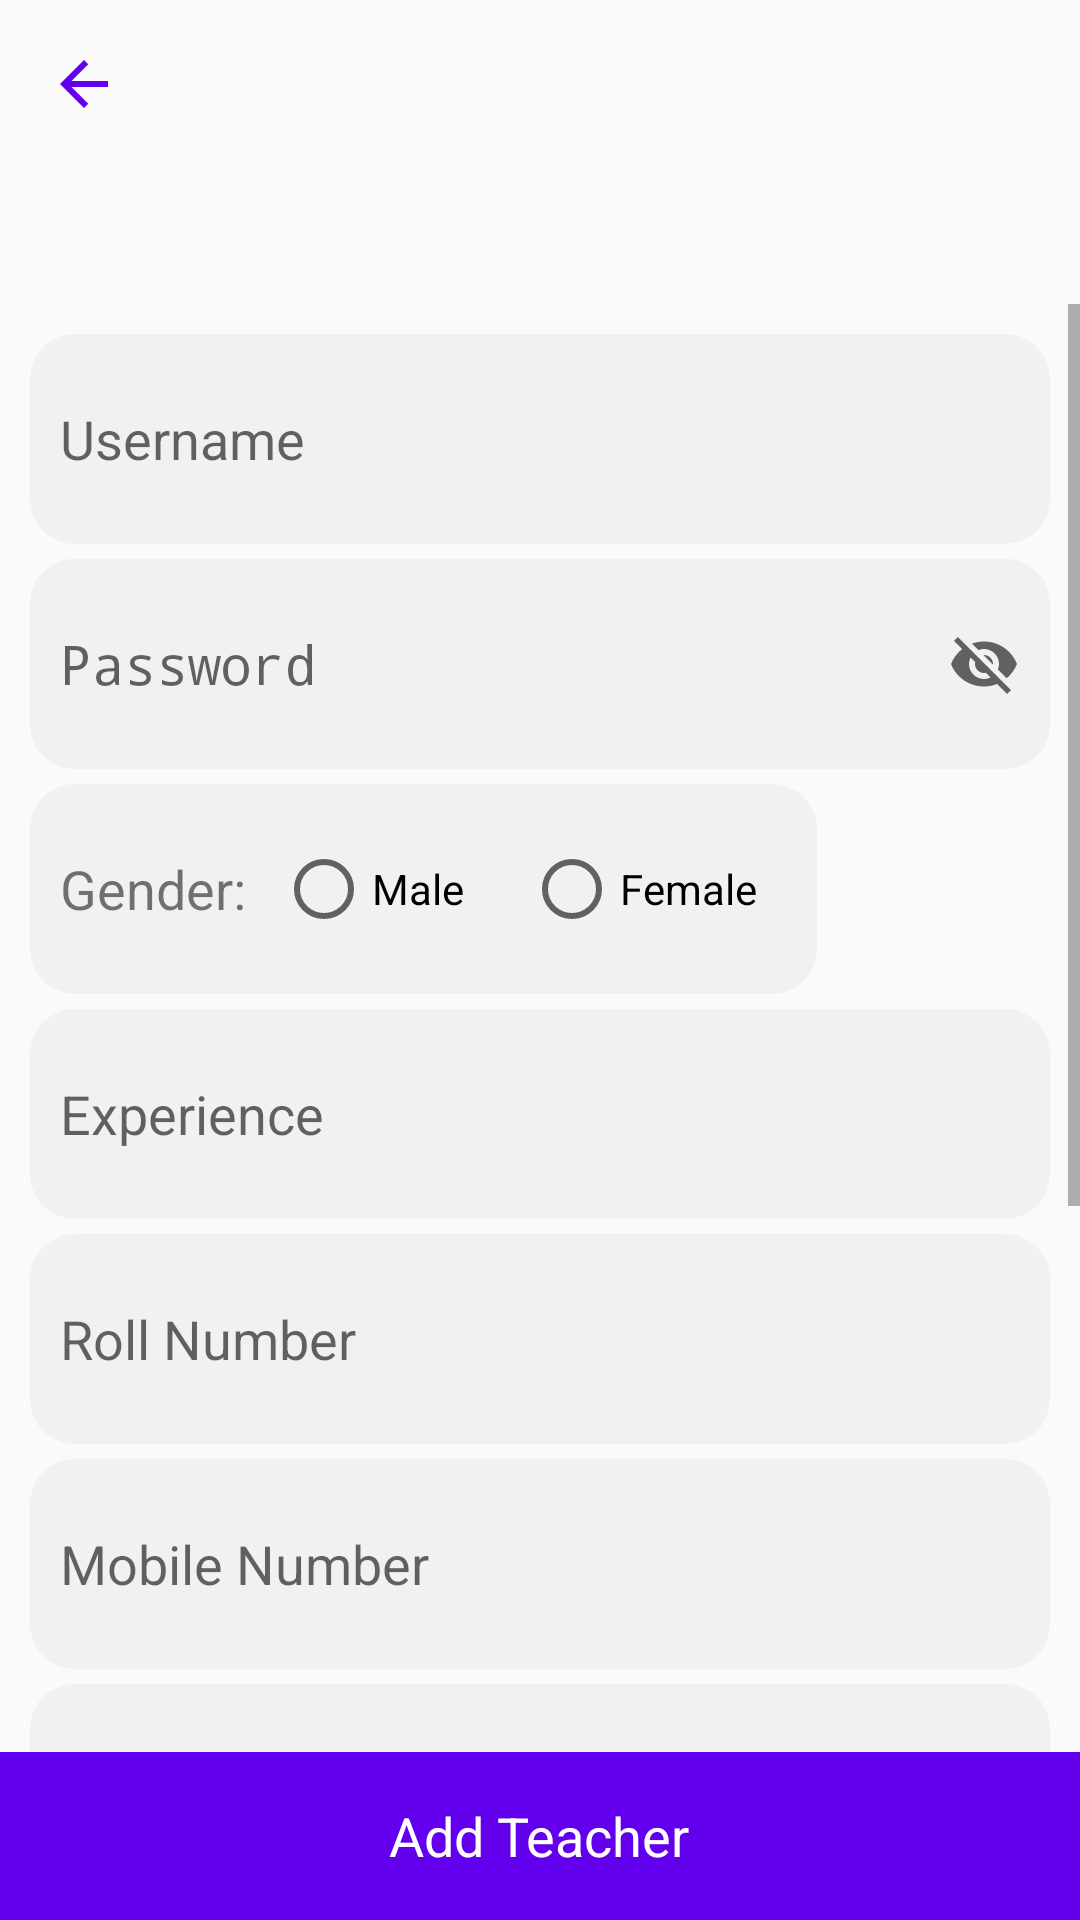

Icons on this 1080px×1920px Android screen, each with the point to tap as (x,y):
back arrow: (84,84)
